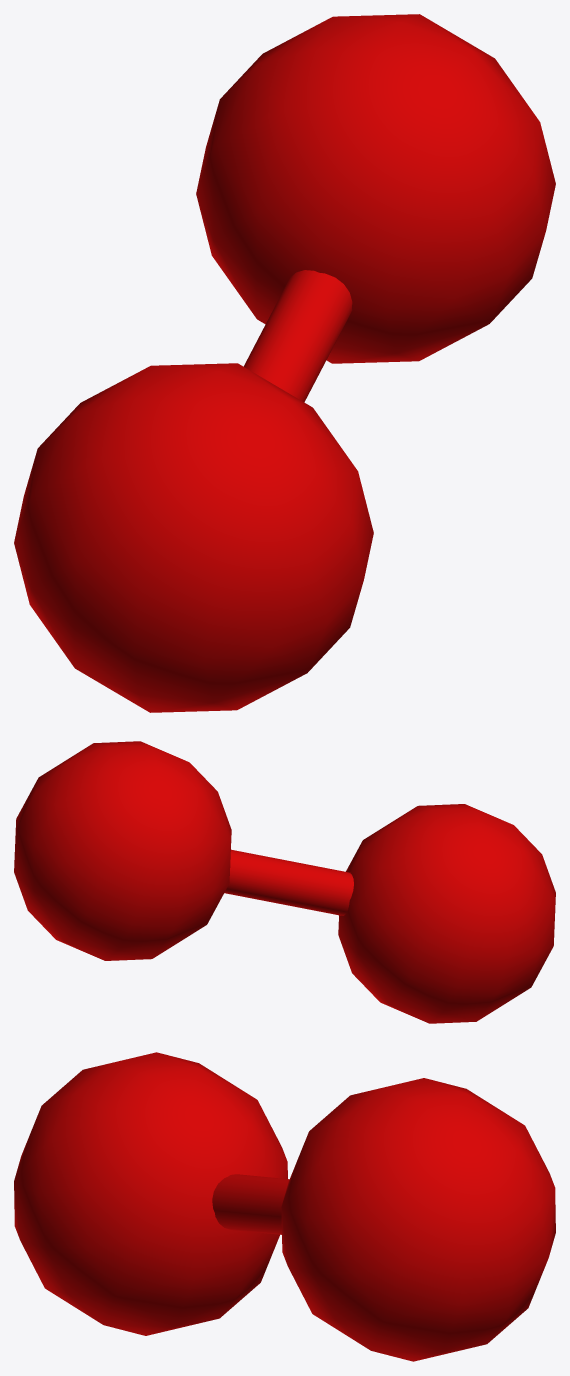
3 renders of one model, top to bottom at view 1: azimuth 30°, elevation 25°; view 2: azimuth 150°, elevation 25°; view 3: azimuth 270°, elevation 25°, orthographic. The views are drawn at different scales.
Visible parts, largest first — view 1: vmd_mol0_rep0; view 2: vmd_mol0_rep0; view 3: vmd_mol0_rep0.
Part boxes in pixels (x1,y1,x2,y2): vmd_mol0_rep0: (14, 14, 555, 712); vmd_mol0_rep0: (14, 741, 555, 1023); vmd_mol0_rep0: (14, 1052, 555, 1361).
Size of the model in its own units: 0.8039 by 0.5373 by 0.7245.
